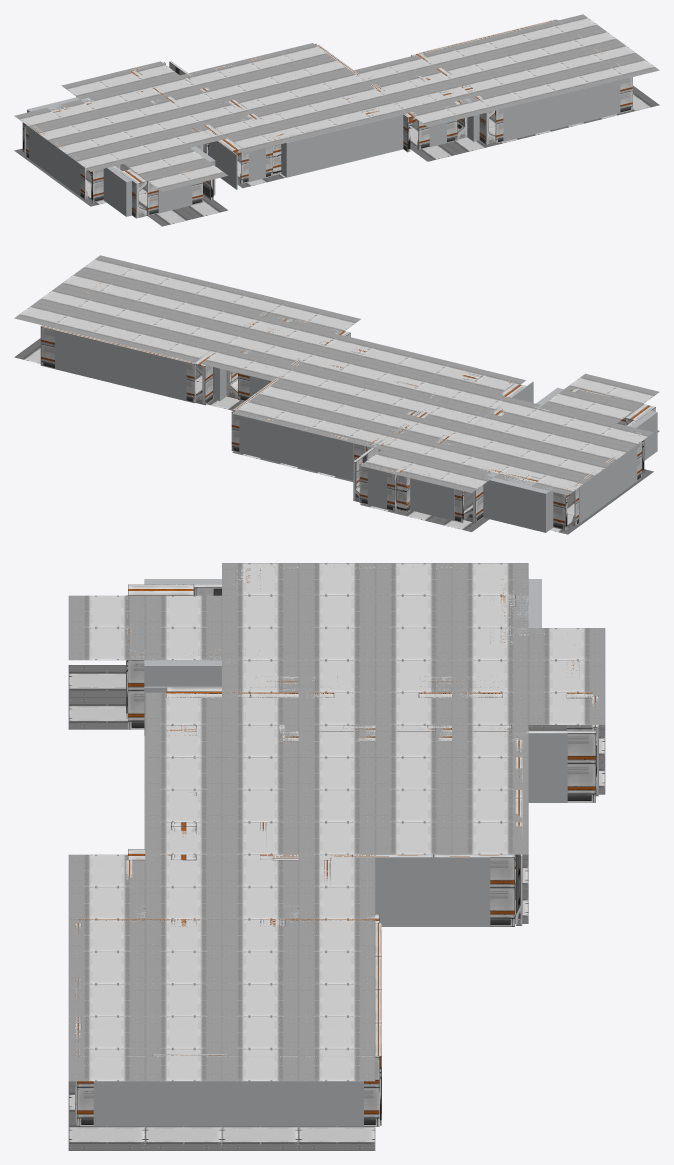
The model's file is Stage1VisualKit.fbx.
3 views of the same model, one above another, from view 1: azimuth 30°, elevation 25°; view 2: azimuth 150°, elevation 25°; view 3: azimuth 270°, elevation 25° (orthographic). The views are drawn at different scales.
Parts seen in each view (by area): view 1: Stage1_SciFiKit; view 2: Stage1_SciFiKit; view 3: Stage1_SciFiKit.
Boxes of the visible parts, box(x1,y1,x2,y2) form: Stage1_SciFiKit: box(14, 14, 659, 226); Stage1_SciFiKit: box(14, 255, 659, 534); Stage1_SciFiKit: box(68, 563, 605, 1150).
Size of the model in its own units: 9600 by 600 by 4200.
9 materials, 8 textured.
